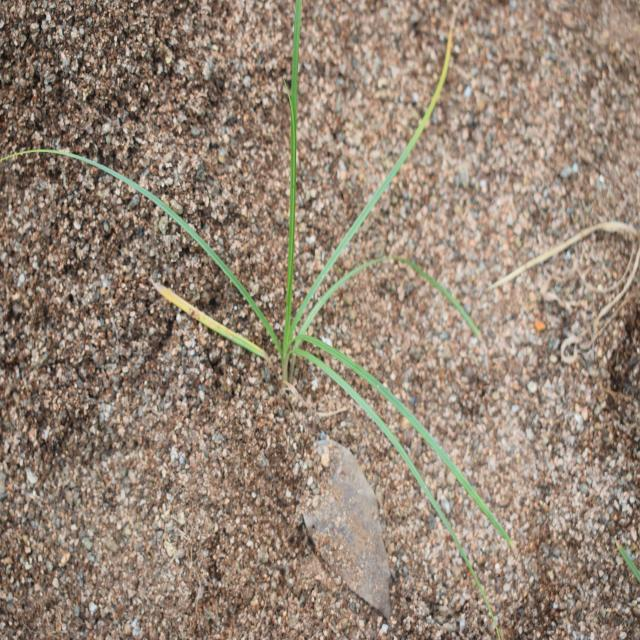sedge: (90, 24, 482, 544)
